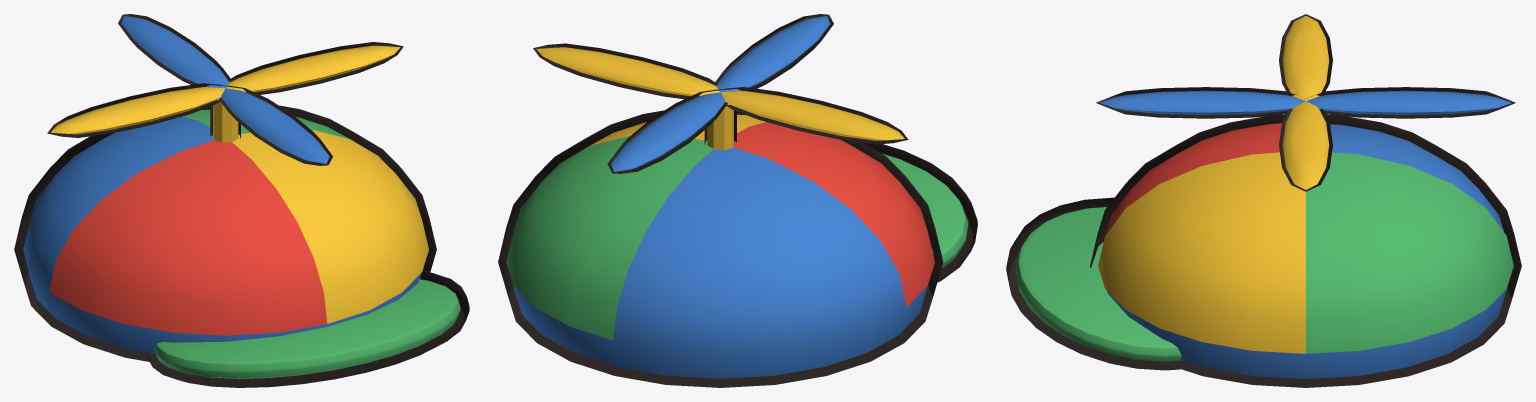
Rendered from hat_propeller.fbx.
3 renders of one model, left to right at view 1: azimuth 30°, elevation 25°; view 2: azimuth 150°, elevation 25°; view 3: azimuth 270°, elevation 25°, orthographic. The views are drawn at different scales.
Visible parts, largest first — view 1: hat_propeller_C_E8473A, hat_propeller_C_F7C531, hat_propeller_C_3F7FD1, hat_propeller_Outline, hat_propeller_C_4FB86A; view 2: hat_propeller_C_3F7FD1, hat_propeller_C_4FB86A, hat_propeller_Outline, hat_propeller_C_E8473A, hat_propeller_C_F7C531; view 3: hat_propeller_C_4FB86A, hat_propeller_C_F7C531, hat_propeller_C_3F7FD1, hat_propeller_Outline, hat_propeller_C_E8473A.
Part boxes in pixels (x1,y1,x2,y2): hat_propeller_C_E8473A: (49,140,327,335); hat_propeller_C_F7C531: (51,45,428,323); hat_propeller_C_3F7FD1: (23,16,421,353); hat_propeller_Outline: (14,14,469,387); hat_propeller_C_4FB86A: (154,109,460,378); hat_propeller_C_3F7FD1: (513,16,928,378); hat_propeller_C_4FB86A: (506,136,968,340); hat_propeller_Outline: (498,14,977,387); hat_propeller_C_E8473A: (732,122,934,306); hat_propeller_C_F7C531: (536,47,904,150); hat_propeller_C_4FB86A: (1015,152,1513,361); hat_propeller_C_F7C531: (1098,15,1329,353); hat_propeller_C_3F7FD1: (1100,90,1511,378); hat_propeller_Outline: (1006,14,1521,387); hat_propeller_C_E8473A: (1105,123,1281,235).
Size of the model in its own units: 0.648 by 0.371 by 0.7739.
